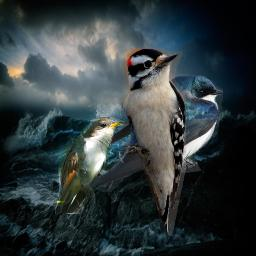Cuckoo: (55, 117, 125, 214)
Swallow: (59, 74, 223, 192)
Woodpecker: (119, 48, 186, 236)
